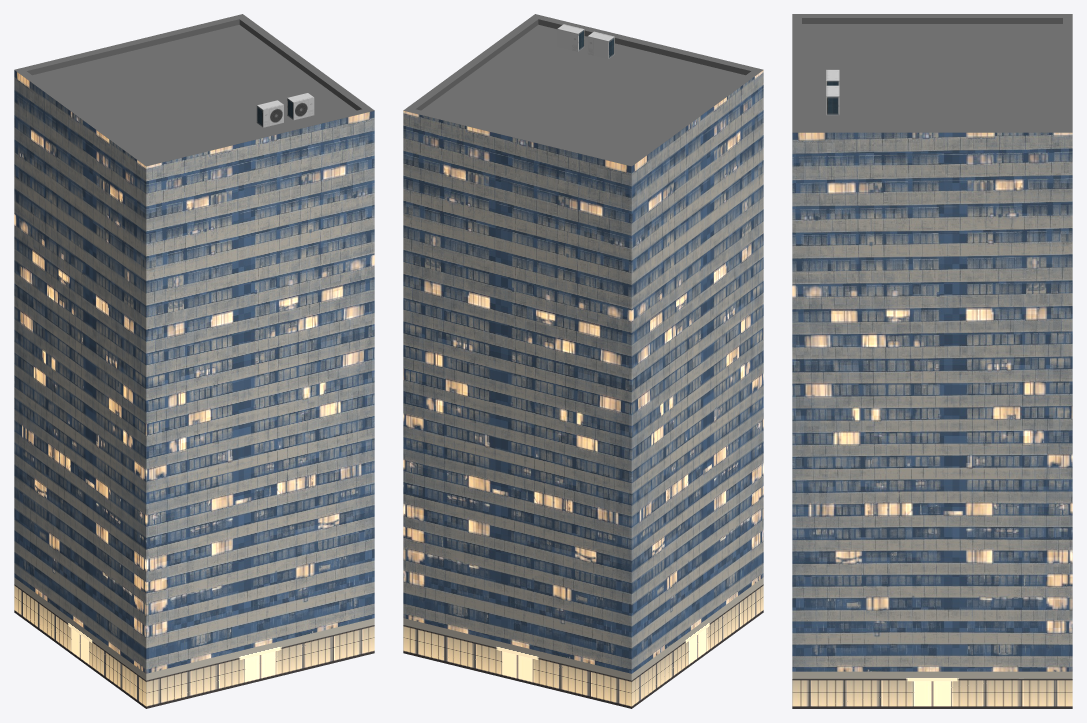
File: nightres.glb
The picture shows the model from 3 angles, left to right: view 1: azimuth 30°, elevation 25°; view 2: azimuth 150°, elevation 25°; view 3: azimuth 270°, elevation 25°; orthographic projection. The views are drawn at different scales.
Parts seen in each view (by area): view 1: Body, Roof, AC; view 2: Body, Roof, AC; view 3: Body, Roof, AC.
Boxes of the visible parts, box(x1,y1,x2,y2) form: Body: box(14, 70, 374, 708); Roof: box(14, 14, 374, 166); AC: box(256, 93, 314, 127); Body: box(403, 70, 763, 708); Roof: box(403, 14, 763, 166); AC: box(557, 24, 614, 58); Body: box(792, 132, 1072, 708); Roof: box(792, 14, 1072, 132); AC: box(826, 69, 839, 115).
Size of the model in its own units: 37.45 by 86.87 by 37.45.
Materials: 3 (2 with a texture image).
